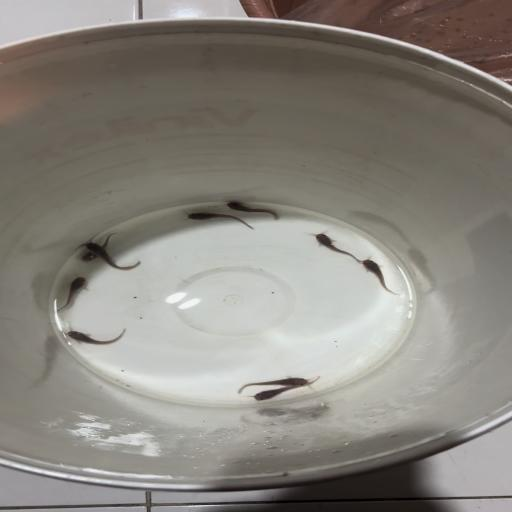lele: (74, 234, 142, 270), (305, 227, 363, 264), (245, 376, 324, 402), (356, 256, 404, 298), (55, 322, 129, 346), (232, 371, 312, 393), (218, 196, 288, 221), (76, 230, 122, 265), (177, 210, 257, 230), (56, 274, 90, 312)
